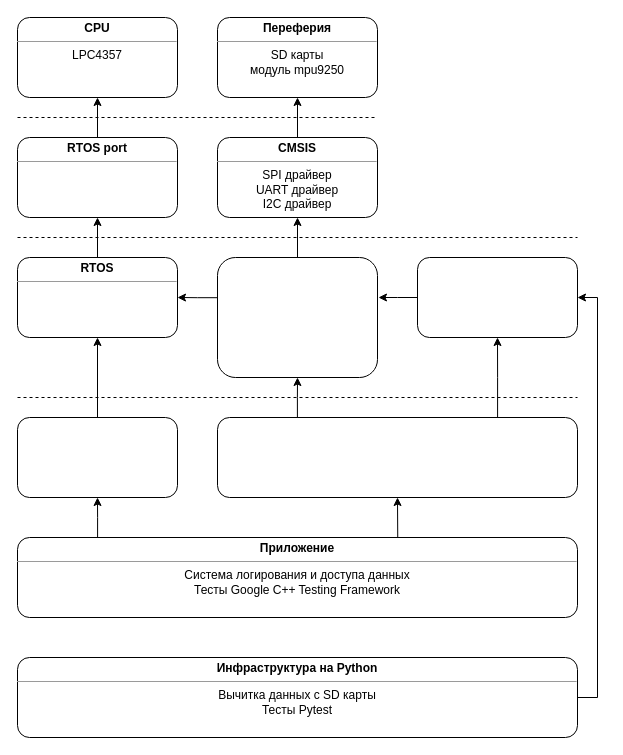
The diagram is 623 pixels wide and 755 high, and some of its shapes have lost their labels. The shapes that lost their labels are listed below. From the top down, each one's centre as x and y in pixels, then its label:
At (x=297, y=317): "Драйвера SPI обёртка UART обёртка I2C обёртка Драйвер SD карты Драйвер mpu9250".
At (x=497, y=297): "Модули системы Инициализация Общение по UART Обработка ошибок".
At (x=97, y=457): "RTOS RAII".
At (x=397, y=457): "Абстракция системы C++ интерфейс для приложения Конфиг хранилища данных".
